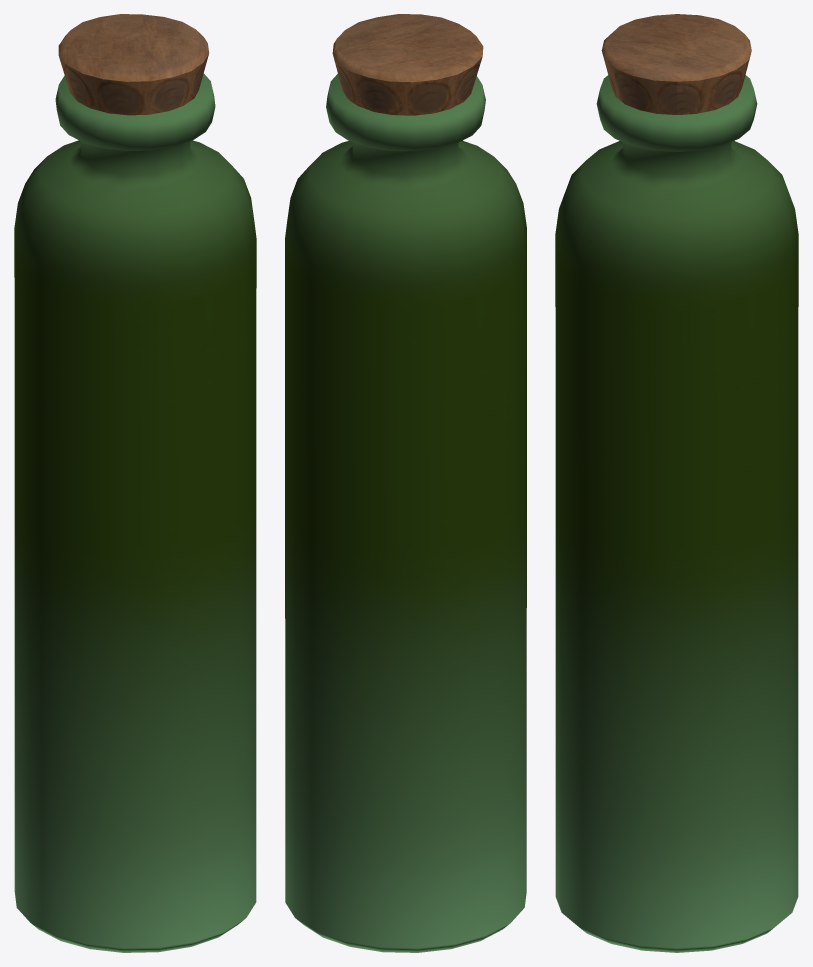
Rendered from SM_Potion_Props_Bottle_Medium_01_A.fbx.
3 views of the same model, side by side, from view 1: azimuth 30°, elevation 25°; view 2: azimuth 150°, elevation 25°; view 3: azimuth 270°, elevation 25° (orthographic).
Visible parts, largest first — view 1: SM_Potion_Props_Bottle_Medium_01_A_LOD0; view 2: SM_Potion_Props_Bottle_Medium_01_A_LOD0; view 3: SM_Potion_Props_Bottle_Medium_01_A_LOD0.
Part boxes in pixels (<box>): SM_Potion_Props_Bottle_Medium_01_A_LOD0: <box>14,14,256,952</box>; SM_Potion_Props_Bottle_Medium_01_A_LOD0: <box>285,14,526,952</box>; SM_Potion_Props_Bottle_Medium_01_A_LOD0: <box>555,14,798,952</box>.
Size of what is drawn, in the model's own units: 8.34 by 32.69 by 8.34.
